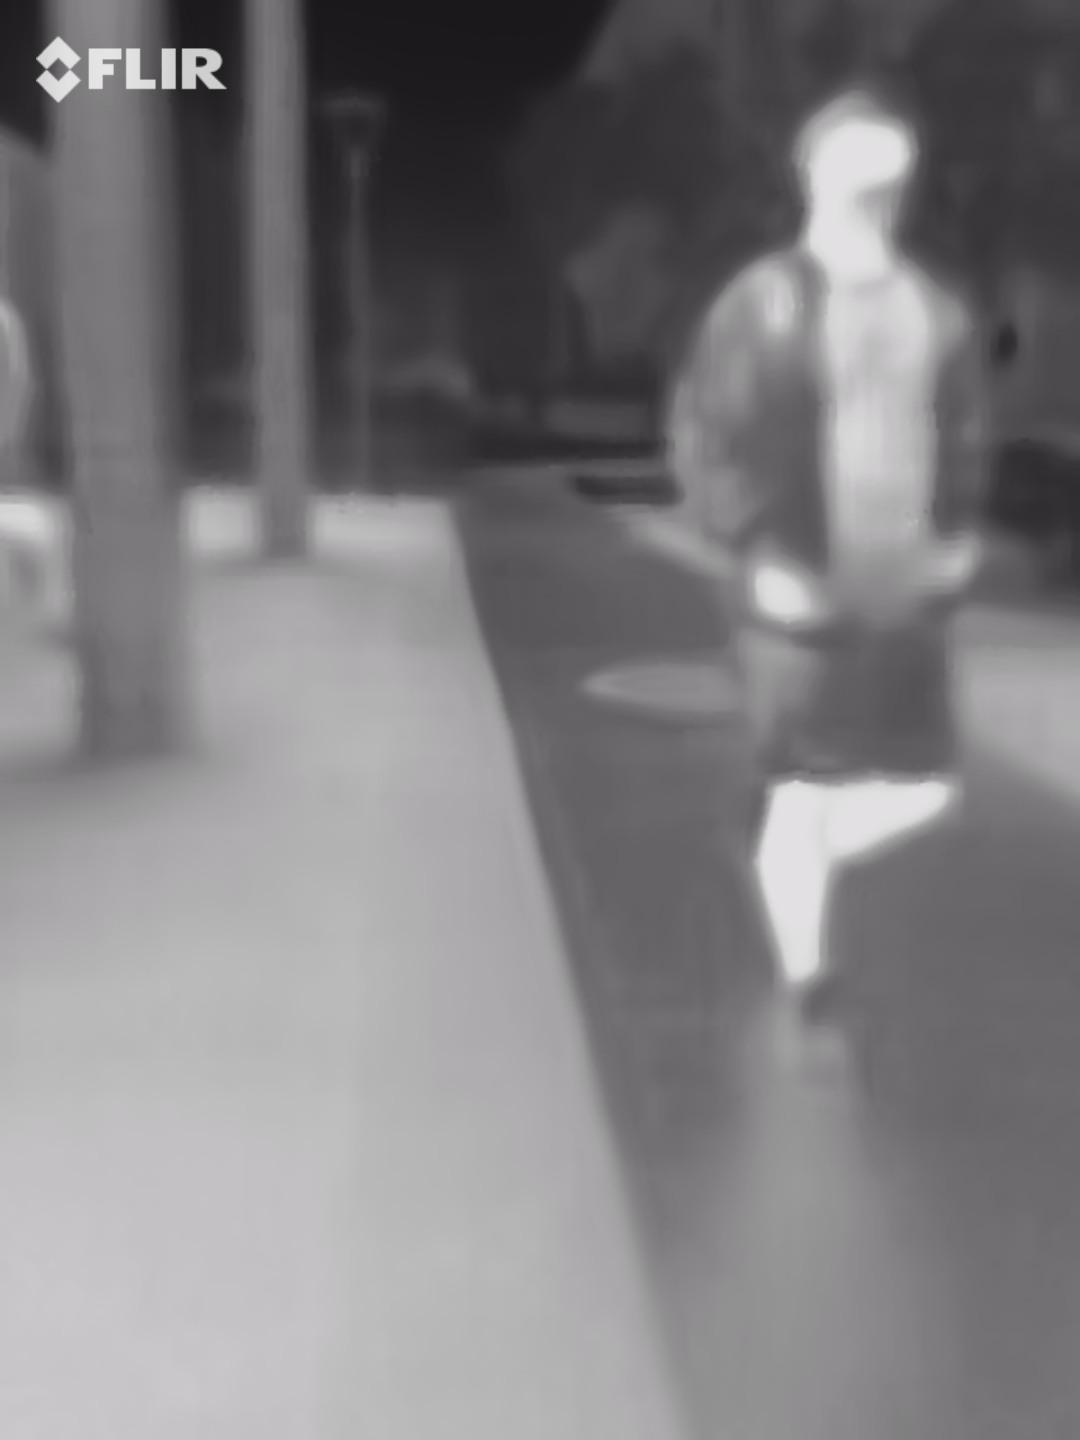head: (785, 86, 916, 250)
